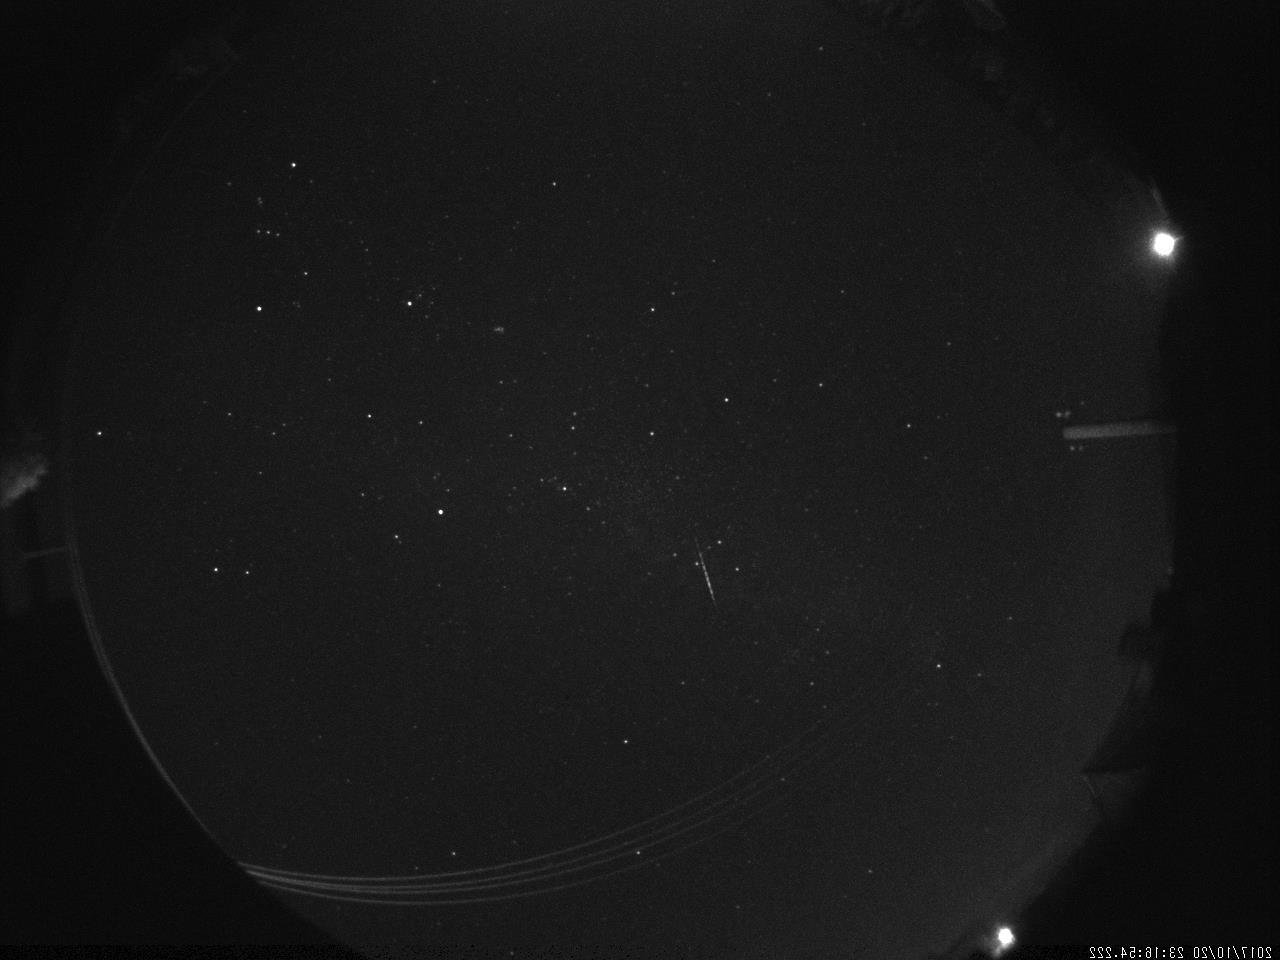meteor: (678, 535, 727, 610)
